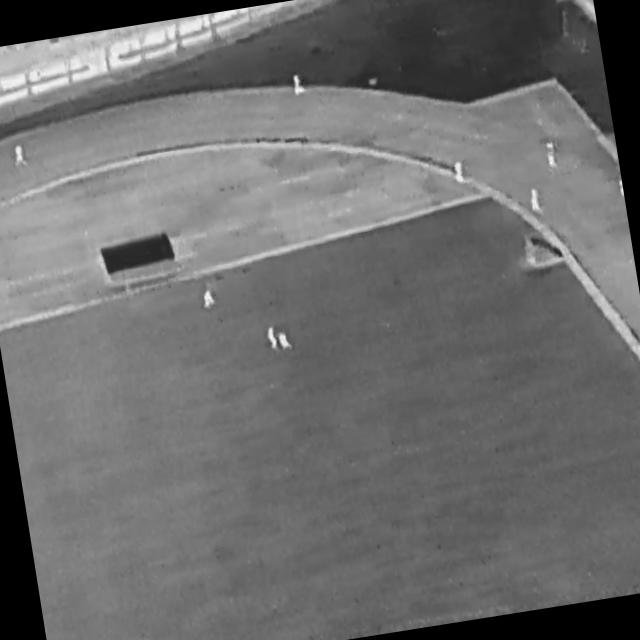person: (275, 330, 295, 355), (545, 143, 559, 172), (13, 145, 29, 169), (530, 188, 544, 214), (202, 290, 217, 311), (293, 74, 307, 96), (268, 327, 279, 350), (454, 162, 465, 184), (619, 179, 626, 199)
